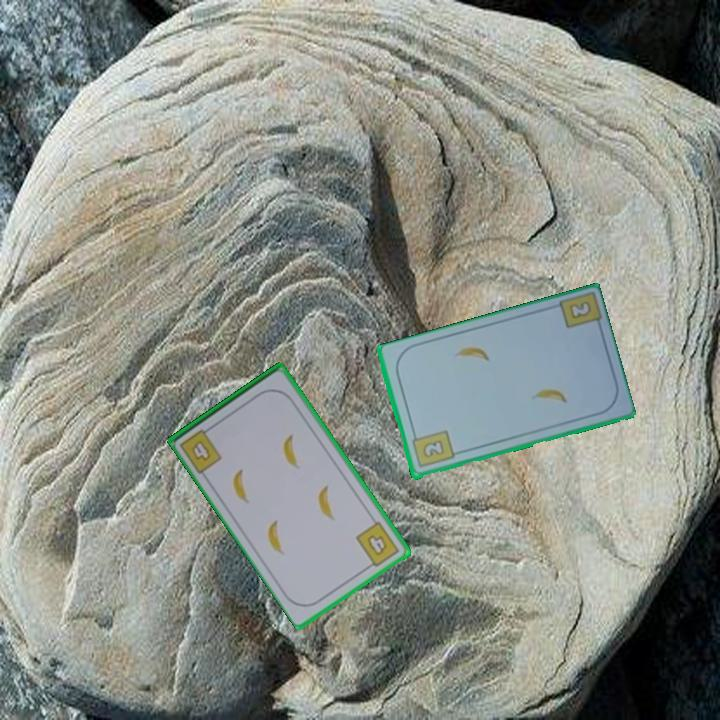2b: (408, 427, 457, 471), (565, 297, 594, 322)
4b: (352, 517, 402, 572), (176, 422, 225, 476)
